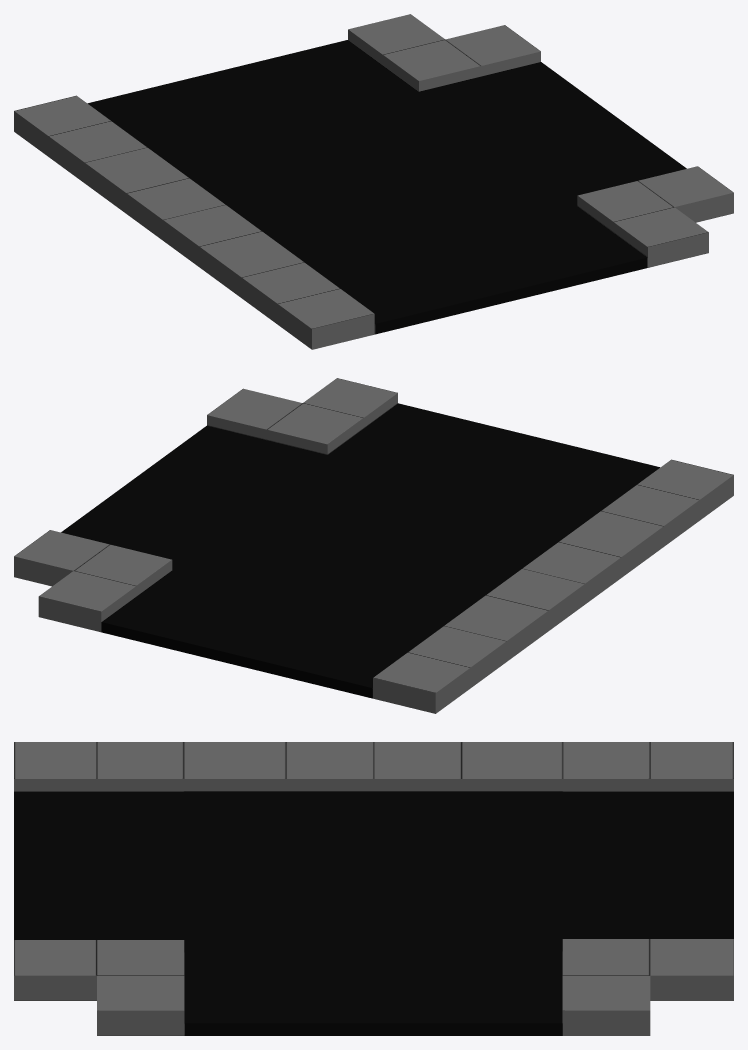
Rendered from Modular Road 3 Intersection.fbx.
The picture shows the model from 3 angles, top to bottom: view 1: azimuth 30°, elevation 25°; view 2: azimuth 150°, elevation 25°; view 3: azimuth 270°, elevation 25°; orthographic projection. The views are drawn at different scales.
Parts seen in each view (by area): view 1: Modular Road 3 way Intersection; view 2: Modular Road 3 way Intersection; view 3: Modular Road 3 way Intersection.
Part boxes in pixels (x1=…): Modular Road 3 way Intersection: x1=14, y1=14, x2=733, y2=349; Modular Road 3 way Intersection: x1=14, y1=378, x2=733, y2=713; Modular Road 3 way Intersection: x1=14, y1=742, x2=733, y2=1035.
Bounding box in the file's own units: 23 × 26.03 × 1.
Materials: 2 (2 with a texture image).
